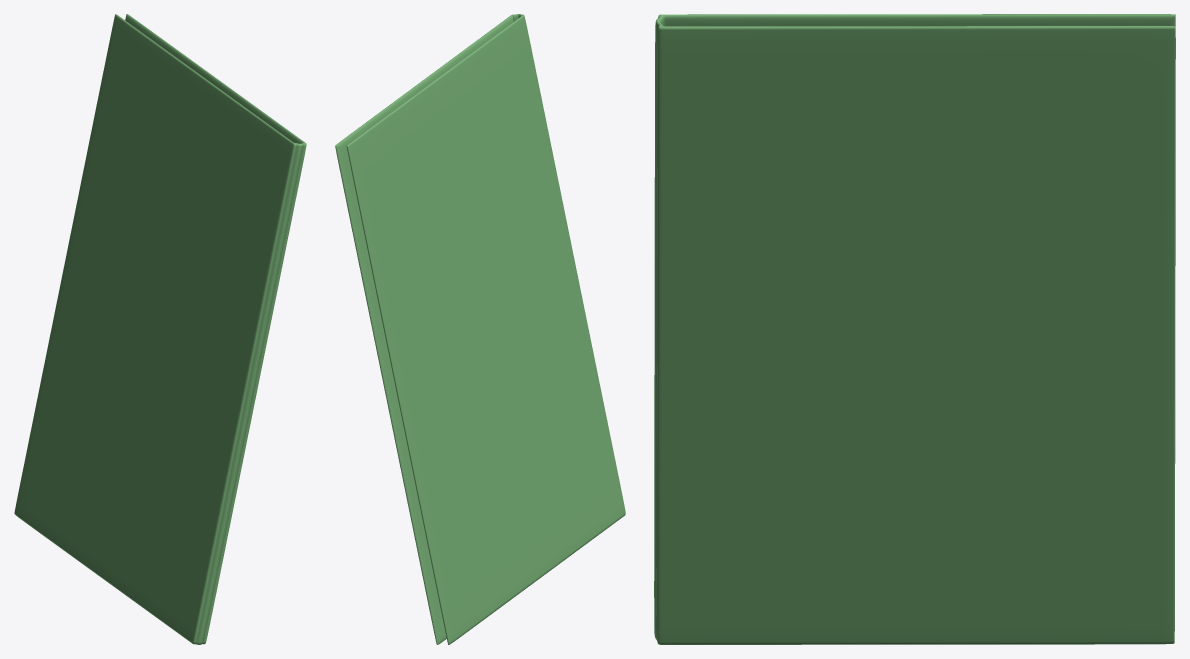
Rendered from object_106_lev1.glb.
3 views of the same model, side by side, from view 1: azimuth 30°, elevation 25°; view 2: azimuth 150°, elevation 25°; view 3: azimuth 270°, elevation 25° (orthographic). The views are drawn at different scales.
Parts seen in each view (by area): view 1: object_106_lev1; view 2: object_106_lev1; view 3: object_106_lev1.
Boxes of the visible parts, x1,y1,x2,y2 form: object_106_lev1: (14, 14, 306, 644); object_106_lev1: (335, 14, 625, 644); object_106_lev1: (654, 14, 1175, 644).
Bounding box in the file's own units: 0.0584 × 0.2325 × 0.1583.
